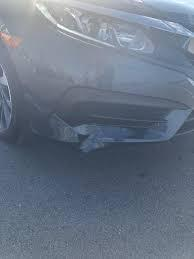front-bumper-dent: (0, 46, 193, 158)
